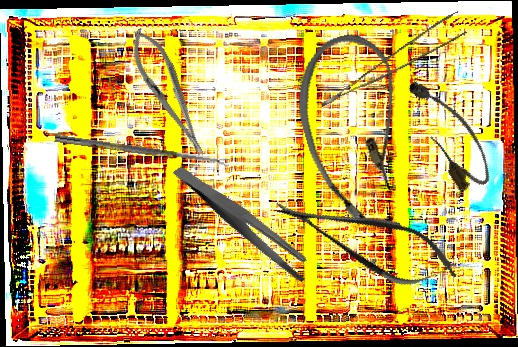Cannula: (281, 25, 429, 231), (400, 68, 500, 197)
Dressing Forceps: (172, 138, 316, 306)
Micro Scissor: (264, 175, 468, 305)
Needle Holder: (121, 22, 216, 164)
Surgical Spoon: (54, 134, 230, 168)
Tissue Forceps: (309, 11, 471, 107)
